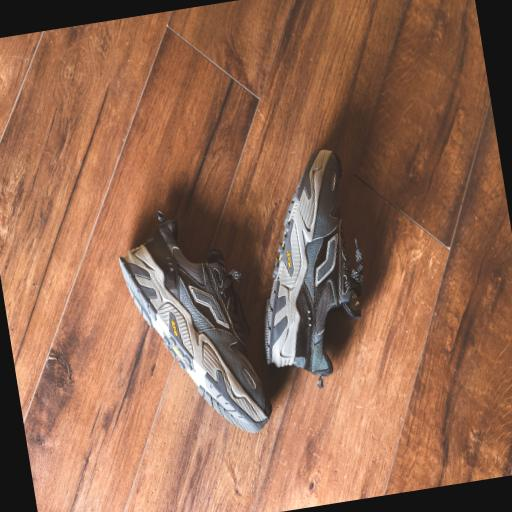shoe: (120, 212, 272, 432), (265, 150, 362, 387)
